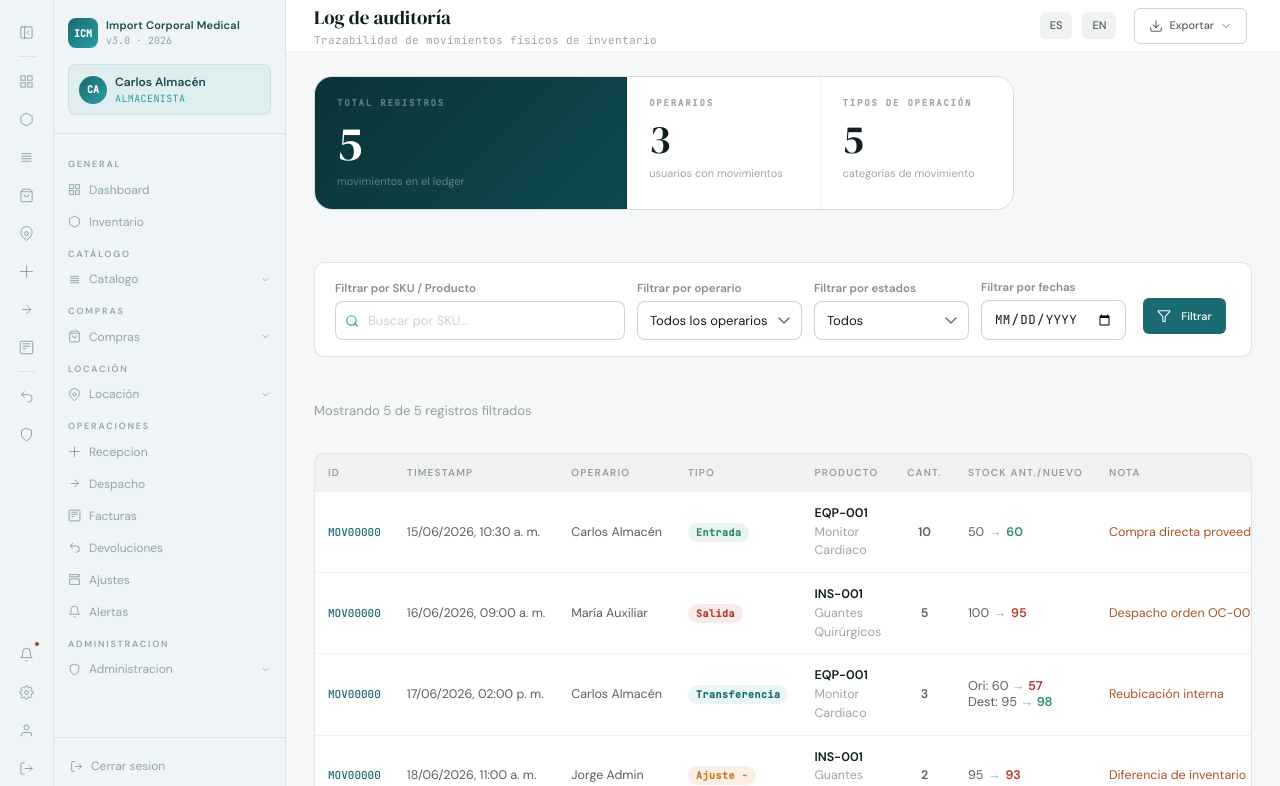
it: AuditPage — integración › Exportar › debería abrir el dropdown de exportación
Click the button "Exportar".
click(1191, 26)  # box left=1134, top=8, right=1247, bottom=44
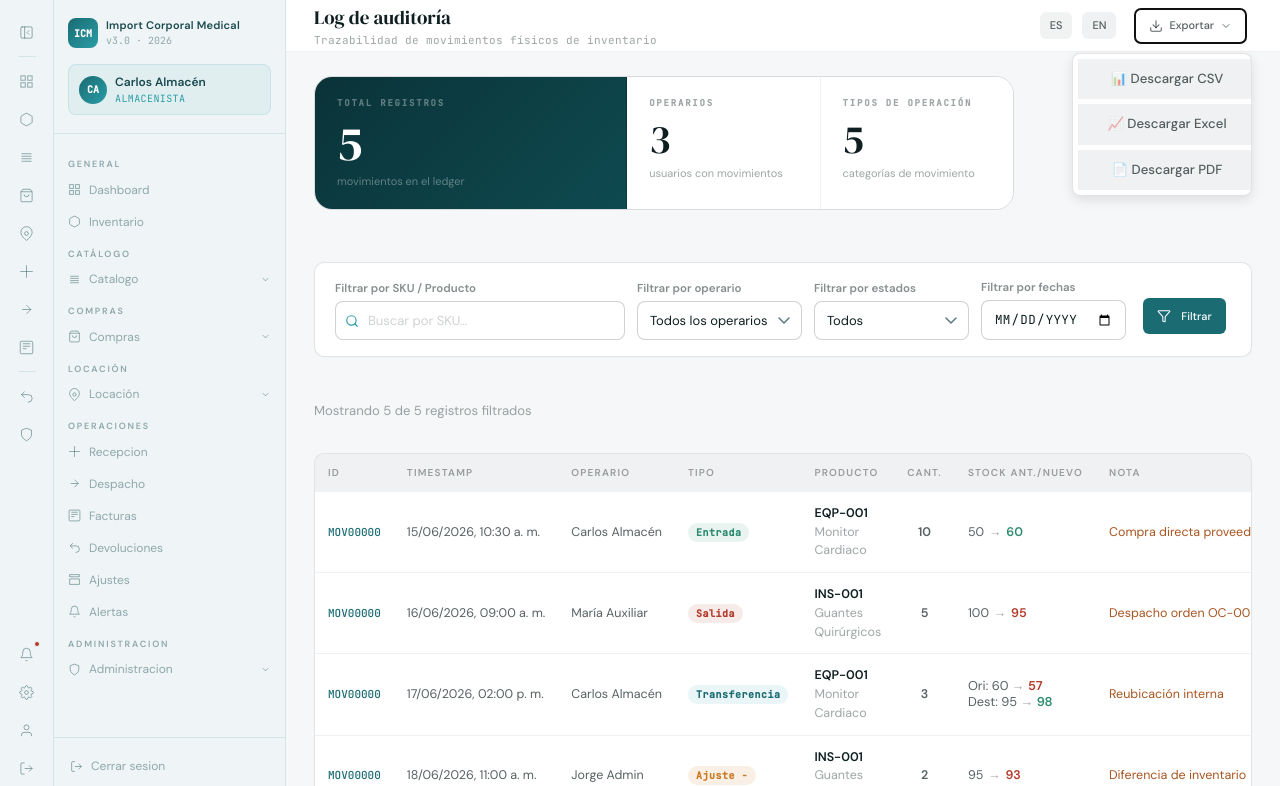
Now the button "📊 Descargar CSV" is shown, box left=1078, top=58, right=1252, bottom=99
Now the button "📈 Descargar Excel" is shown, box left=1078, top=104, right=1252, bottom=145
Now the button "📄 Descargar PDF" is shown, box left=1078, top=150, right=1252, bottom=190
